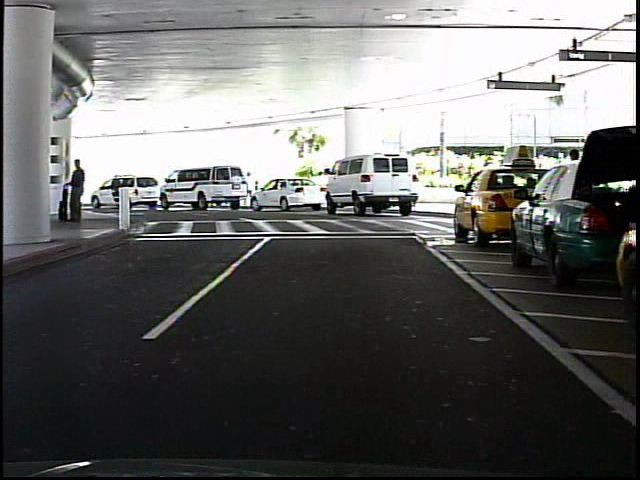person: (70, 157, 89, 223), (246, 170, 258, 191)
